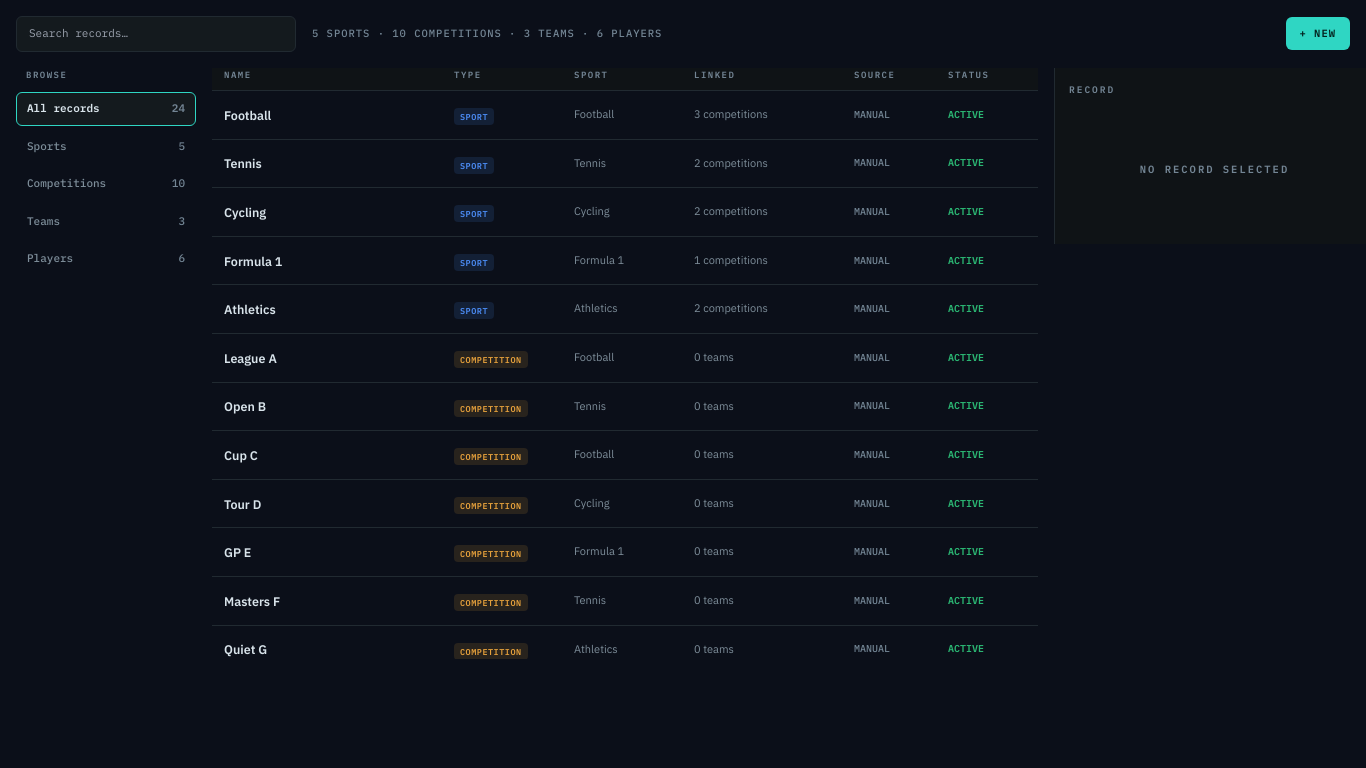
toolbar › + NEW opens the create modal (C-4-T1 — supersedes the C-2 pin-2 inert state)
Click the button with test id "ops-registry-new" at (1318, 34), box [1286, 17, 1350, 50]
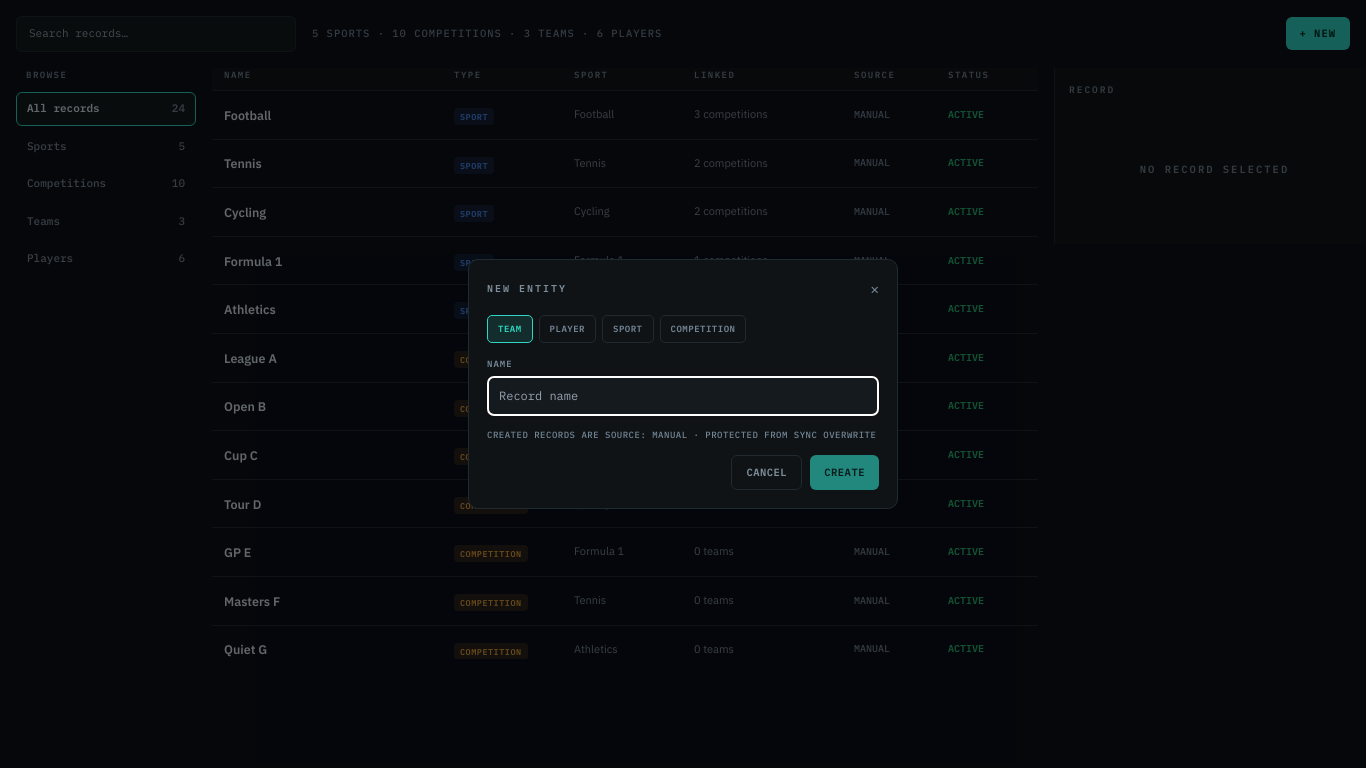
Check: the dialog with test id "ops-create-modal" is shown, box [468, 259, 898, 509]
